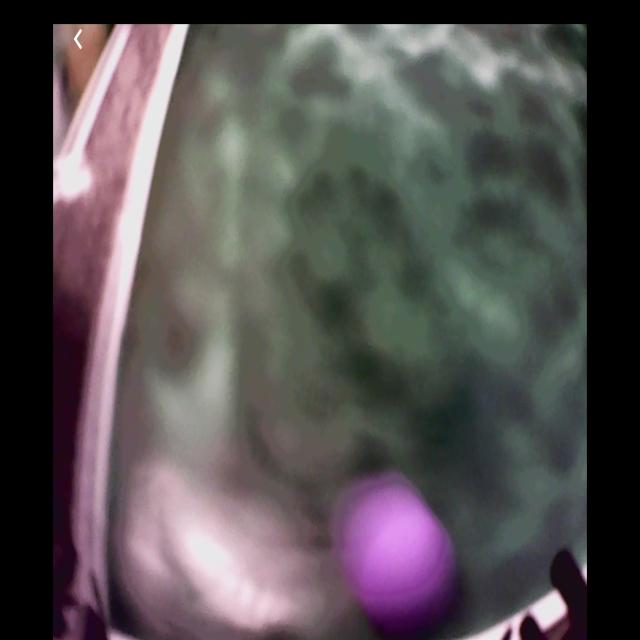ball: (360, 512, 455, 631)
